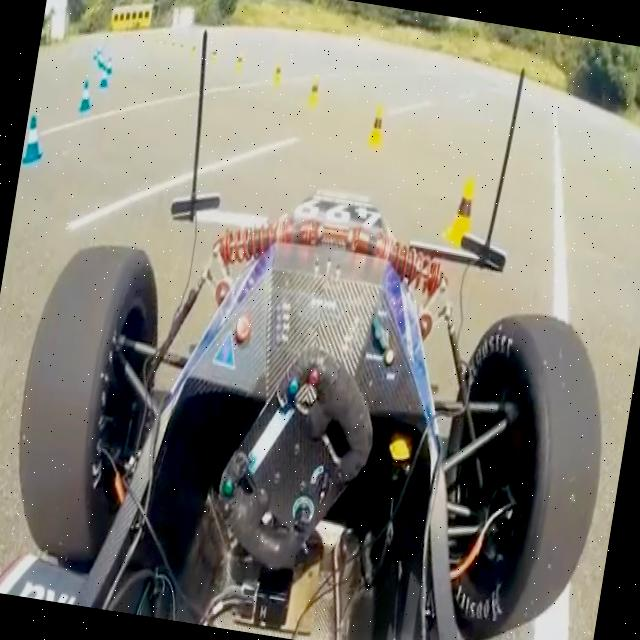blue_cone: (22, 106, 48, 170), (76, 74, 96, 113), (98, 70, 109, 92), (104, 56, 114, 77), (100, 58, 108, 75)
yellow_cone: (438, 167, 484, 252), (365, 102, 392, 155), (305, 72, 323, 110), (233, 52, 246, 78), (272, 64, 284, 91), (211, 46, 220, 68), (188, 42, 198, 60), (178, 42, 186, 57)
